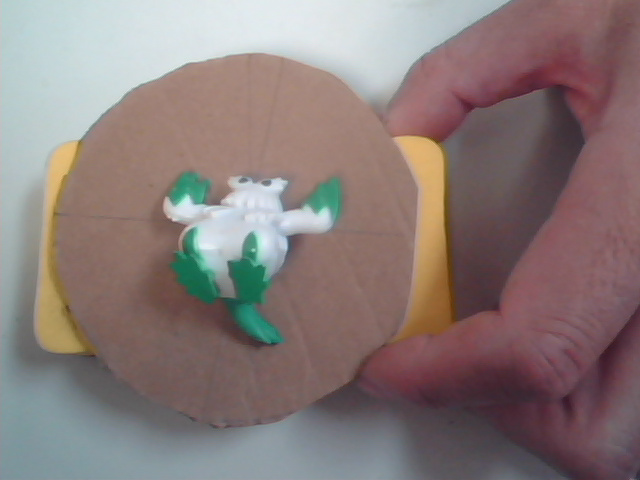abomasnow: (141, 135, 373, 361)
